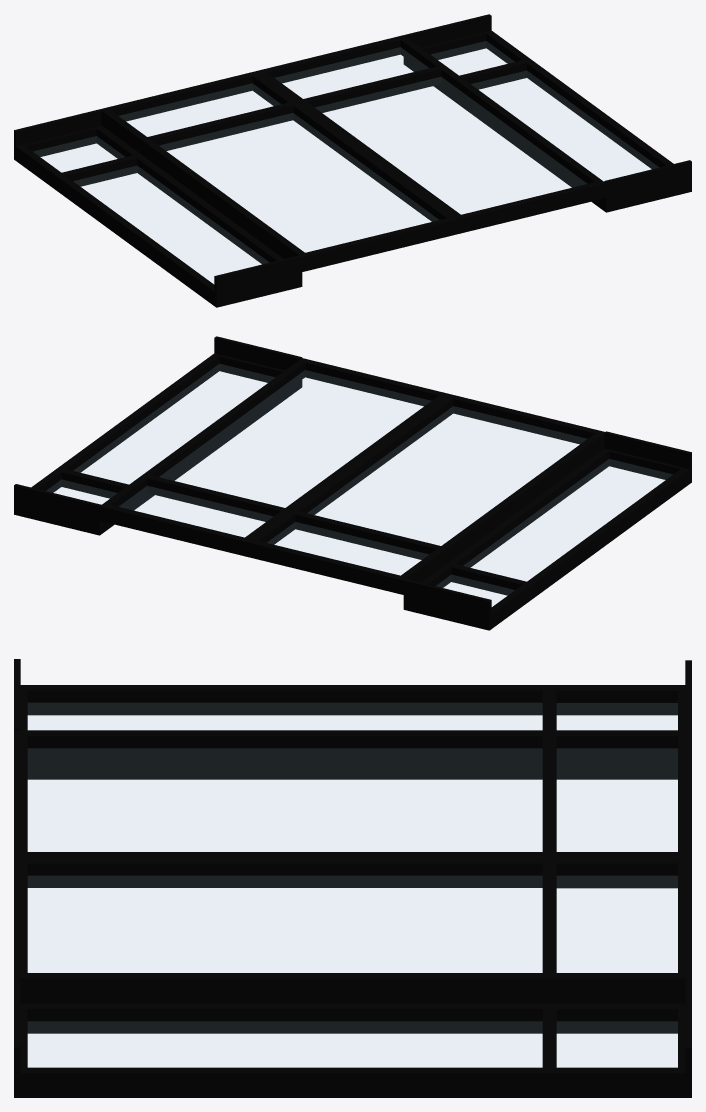
Rendered from Door01.fbx.
3 renders of one model, top to bottom at view 1: azimuth 30°, elevation 25°; view 2: azimuth 150°, elevation 25°; view 3: azimuth 270°, elevation 25°, orthographic. The views are drawn at different scales.
Visible parts, largest first — view 1: WindowFrame.003; view 2: WindowFrame.003; view 3: WindowFrame.003.
Part boxes in pixels (x1,y1,x2,y2): WindowFrame.003: (14,14,691,307); WindowFrame.003: (14,336,691,630); WindowFrame.003: (14,659,691,1097).
Bounding box in the file's own units: 610 × 37.03 × 450.
